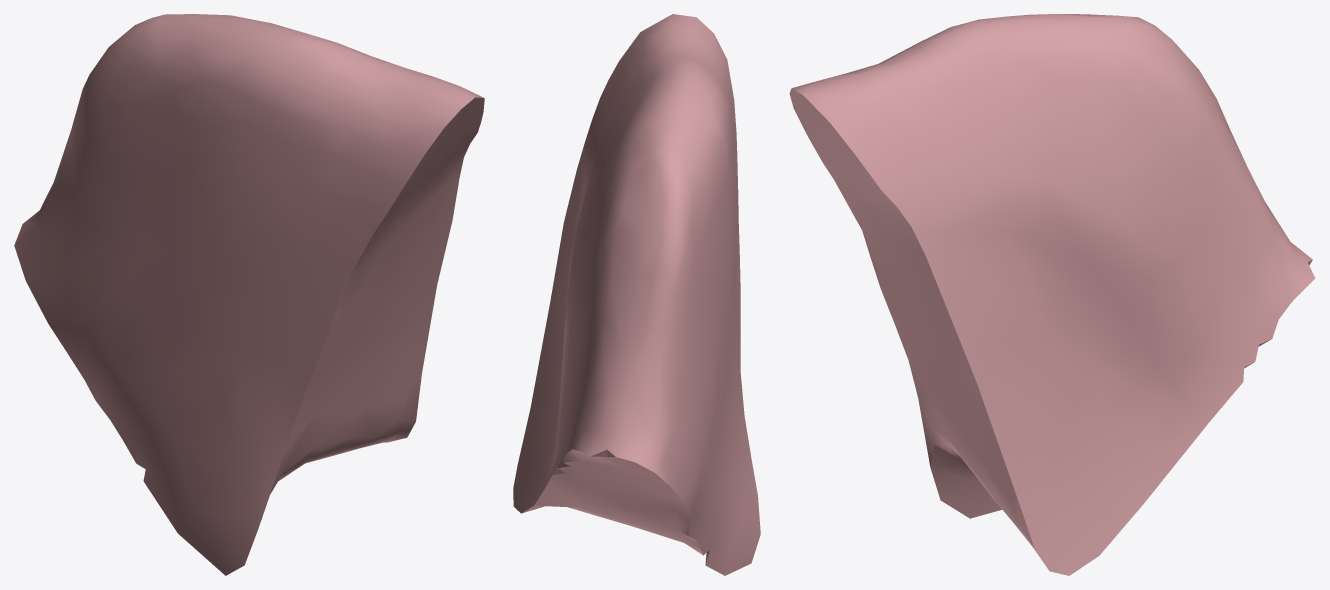
File: fma327354_mm630.glb
3 views of the same model, side by side, from view 1: azimuth 30°, elevation 25°; view 2: azimuth 150°, elevation 25°; view 3: azimuth 270°, elevation 25° (orthographic). The views are drawn at different scales.
Visible parts, largest first — view 1: FMA327354_MM630; view 2: FMA327354_MM630; view 3: FMA327354_MM630.
Boxes of the visible parts, x1,y1,x2,y2 form: FMA327354_MM630: (14, 14, 484, 575); FMA327354_MM630: (513, 14, 760, 575); FMA327354_MM630: (789, 14, 1315, 575).
Size of the model in its own units: 0.00609 by 0.0109 by 0.0098.
